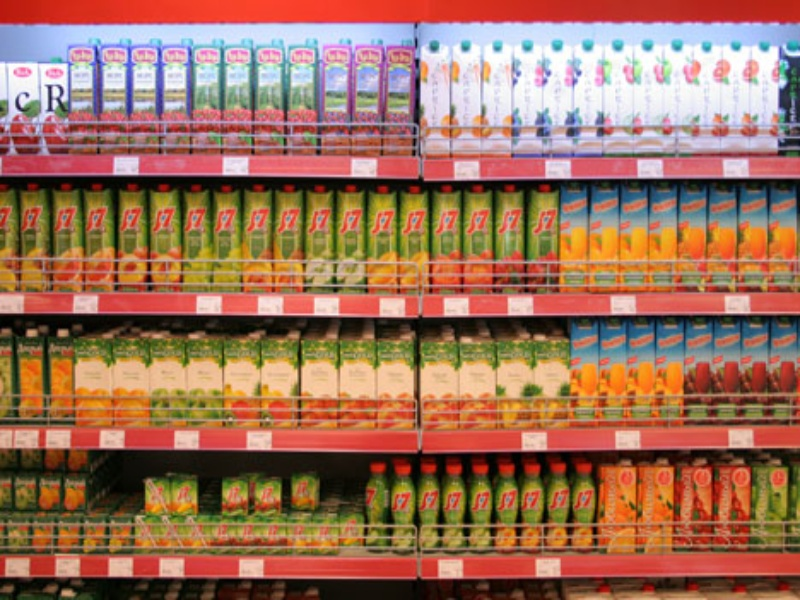juice: (287, 41, 324, 155), (540, 42, 575, 159), (429, 189, 466, 297), (510, 36, 543, 157), (384, 41, 419, 154), (711, 459, 753, 553), (419, 41, 452, 158), (191, 43, 226, 153), (68, 45, 102, 158), (637, 458, 676, 555), (163, 40, 196, 154), (572, 43, 605, 157), (338, 337, 378, 430), (377, 335, 414, 435), (320, 42, 352, 156), (76, 336, 116, 427), (753, 460, 793, 551), (109, 336, 149, 426), (674, 191, 710, 291), (616, 185, 649, 294), (452, 45, 485, 154), (101, 41, 133, 153), (646, 188, 680, 293), (737, 185, 771, 290), (483, 42, 514, 156), (498, 338, 536, 429), (301, 340, 340, 428), (674, 459, 712, 549), (354, 43, 384, 157), (367, 188, 399, 293), (712, 320, 744, 425), (256, 43, 286, 155), (707, 188, 738, 296), (603, 40, 631, 159), (588, 187, 619, 294), (224, 43, 254, 153), (132, 42, 162, 152), (262, 339, 299, 428), (571, 322, 602, 428), (400, 193, 431, 298), (151, 339, 187, 426), (530, 191, 561, 292), (308, 188, 337, 295), (739, 322, 769, 425), (223, 338, 258, 426), (600, 324, 629, 429), (186, 189, 216, 289), (425, 339, 459, 427), (604, 462, 638, 550), (154, 189, 185, 285), (245, 194, 276, 289), (189, 340, 224, 424), (466, 190, 494, 294), (629, 324, 657, 426), (215, 190, 244, 288), (689, 325, 716, 428), (658, 321, 683, 432), (498, 187, 525, 289), (340, 187, 367, 289), (462, 342, 491, 429)
